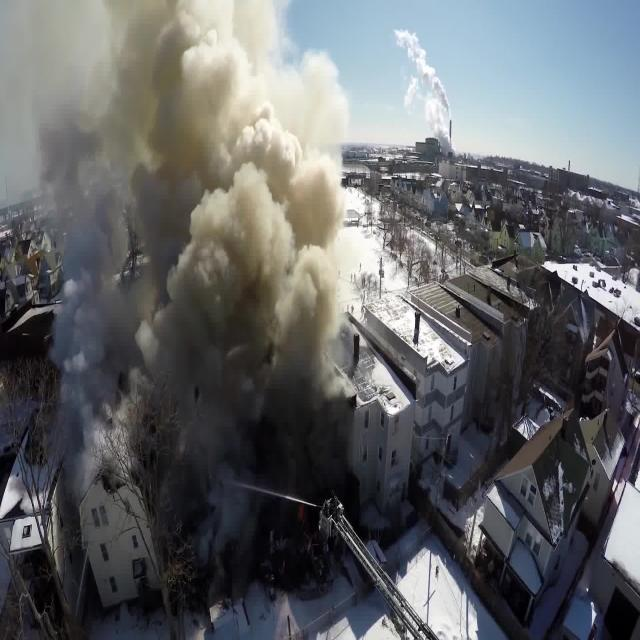smoke: (157, 60, 331, 374), (16, 7, 154, 163), (57, 190, 152, 398)
